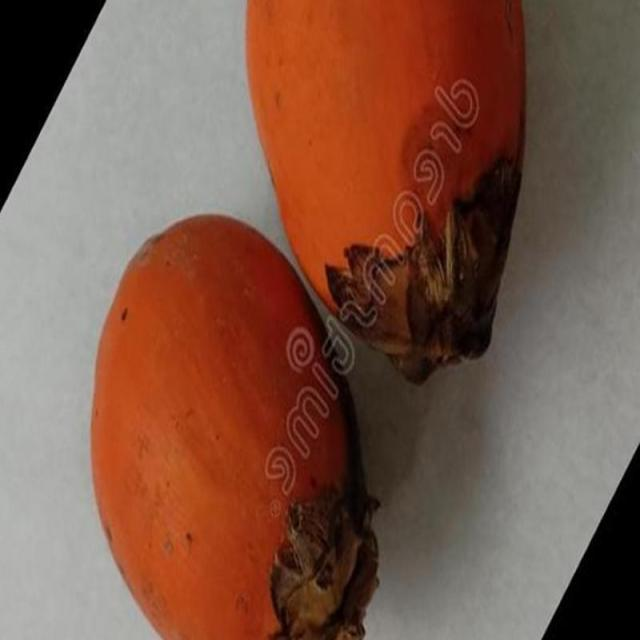good: (90, 214, 380, 639), (244, 0, 527, 386)
